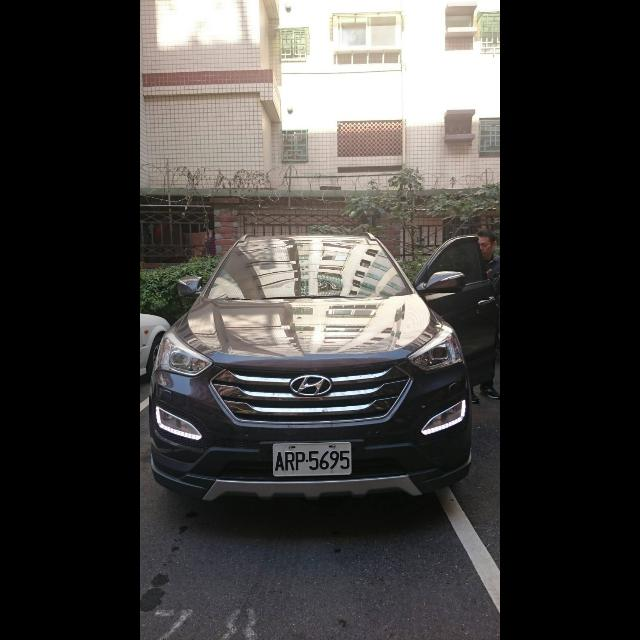plate: (273, 442, 352, 477)
